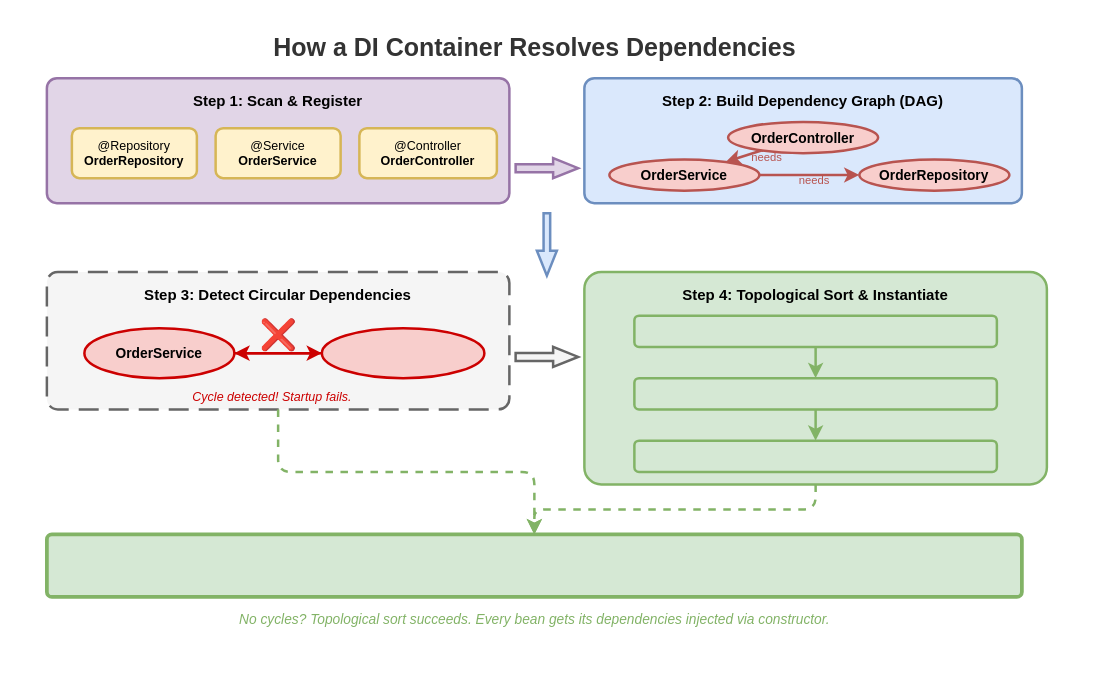
Image size: 1093x680. Some labels were removed from this diagram. The shapes that lost their labels are listed below. From the top down, each one's centre as x and y in pixels, then its label:
At point 815,331: "① OrderRepository (0 deps)".
At point 402,352: "NotificationService".
At point 815,393: "② OrderService (repo ✅)".
At point 815,455: "③ OrderController (svc ✅)".
At point 533,565: "✅ All beans created and wired. Application ready.".
